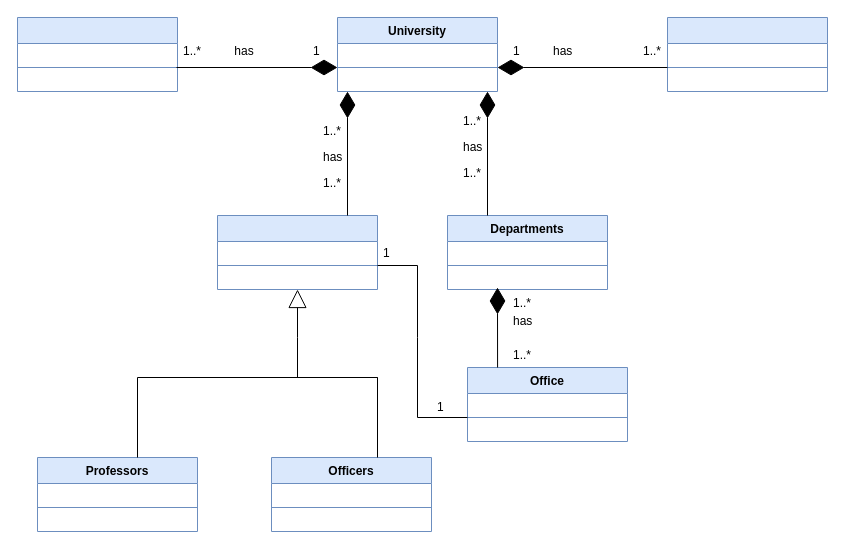
This 845x549 diagram has some shape labels left out. The shapes that lost their labels are listed below. From the top down, each one's box as (x1, y1, x2, y2) in pixels, then its label:
(16, 16, 178, 92): Classrooms
(666, 16, 828, 92): Working Offices
(216, 214, 378, 290): Employees
